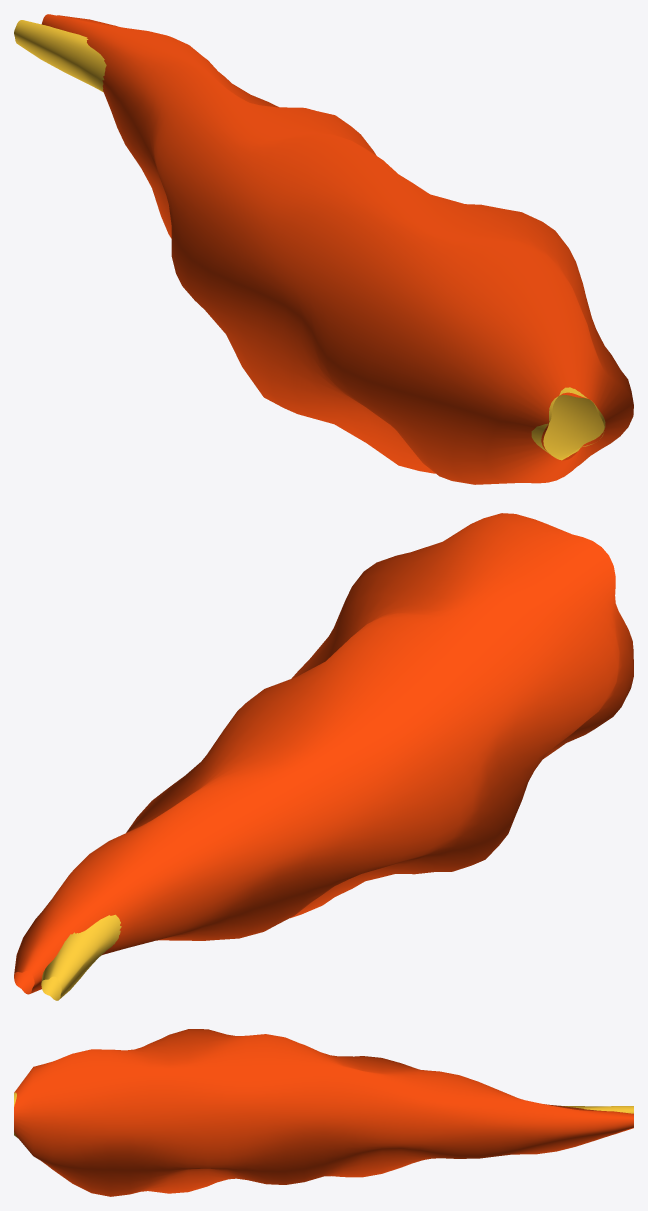
Rendered from flame_volume_v2_1.dae.
3 views of the same model, one above another, from view 1: azimuth 30°, elevation 25°; view 2: azimuth 150°, elevation 25°; view 3: azimuth 270°, elevation 25° (orthographic). The views are drawn at different scales.
Parts seen in each view (by area): view 1: iaf_shell, iaf_core_mesh; view 2: iaf_shell, iaf_core_mesh; view 3: iaf_shell, iaf_core_mesh.
Part boxes in pixels (x1,y1,x2,y2): iaf_shell: [41, 14, 633, 484]; iaf_core_mesh: [14, 20, 605, 460]; iaf_shell: [14, 513, 633, 994]; iaf_core_mesh: [41, 914, 121, 1000]; iaf_shell: [14, 1029, 633, 1196]; iaf_core_mesh: [14, 1092, 633, 1137].
Bounding box in the file's own units: 0.2128 × 0.8 × 0.2178.
